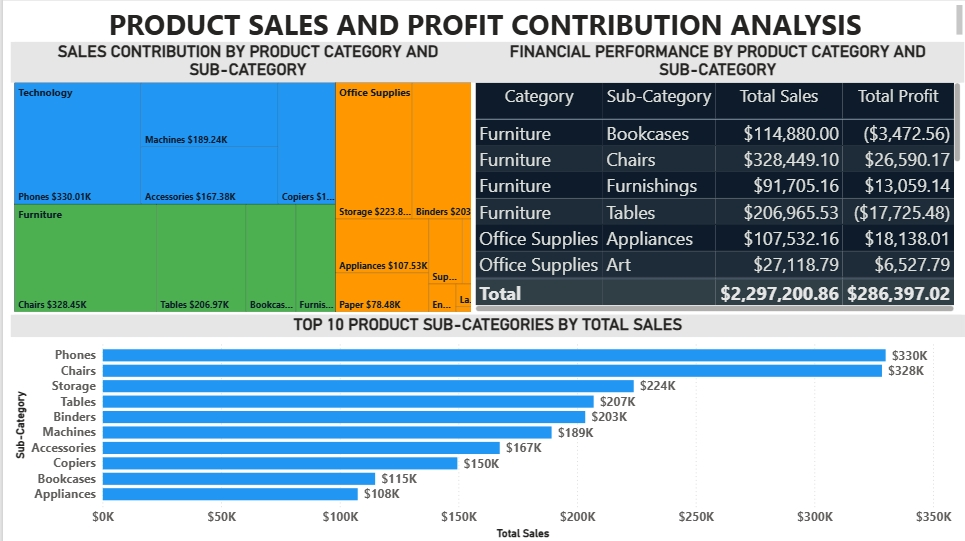

The dashboard page shown, as its layout file describes it:
{"tool":"powerbi","page":{"name":"Product Sales and Profit Contribution Analysis","canvas":[1280,720],"ordinal":1},"visuals":[{"type":"treemap","title":"SALES CONTRIBUTION BY PRODUCT CATEGORY AND SUB-CATEGORY","fields":{"Values":["Orders.Total Sales"],"Group":["Orders.Category"],"Details":["Orders.Sub-Category"]},"box":[9.9,53,631.1,364.4],"z":0},{"type":"tableEx","title":"FINANCIAL PERFORMANCE BY PRODUCT CATEGORY AND SUB-CATEGORY","fields":{"Values":["Orders.Category","Orders.Sub-Category","Orders.Total Sales","Orders.Total Profit"]},"box":[622.8,53,656,364.4],"z":1000},{"type":"clusteredBarChart","title":"TOP 10 PRODUCT SUB-CATEGORIES BY TOTAL SALES","fields":{"Y":["Orders.Total Sales"],"Category":["Orders.Sub-Category"]},"box":[9.9,417.4,1268.9,303.1],"z":2000},{"type":"textbox","box":[10,0,1270,54],"z":3000}]}

Visuals, with their boxes in screenshot pixels (x1, y1, x2, y2), scaled from the page's 1280x720 canvas onto the 965x541 screenshot:
"SALES CONTRIBUTION BY PRODUCT CATEGORY AND SUB-CATEGORY" treemap: [left=7, top=40, right=483, bottom=314]
"FINANCIAL PERFORMANCE BY PRODUCT CATEGORY AND SUB-CATEGORY" tableEx: [left=470, top=40, right=964, bottom=314]
"TOP 10 PRODUCT SUB-CATEGORIES BY TOTAL SALES" clusteredBarChart: [left=7, top=314, right=964, bottom=540]
textbox: [left=8, top=0, right=964, bottom=41]
